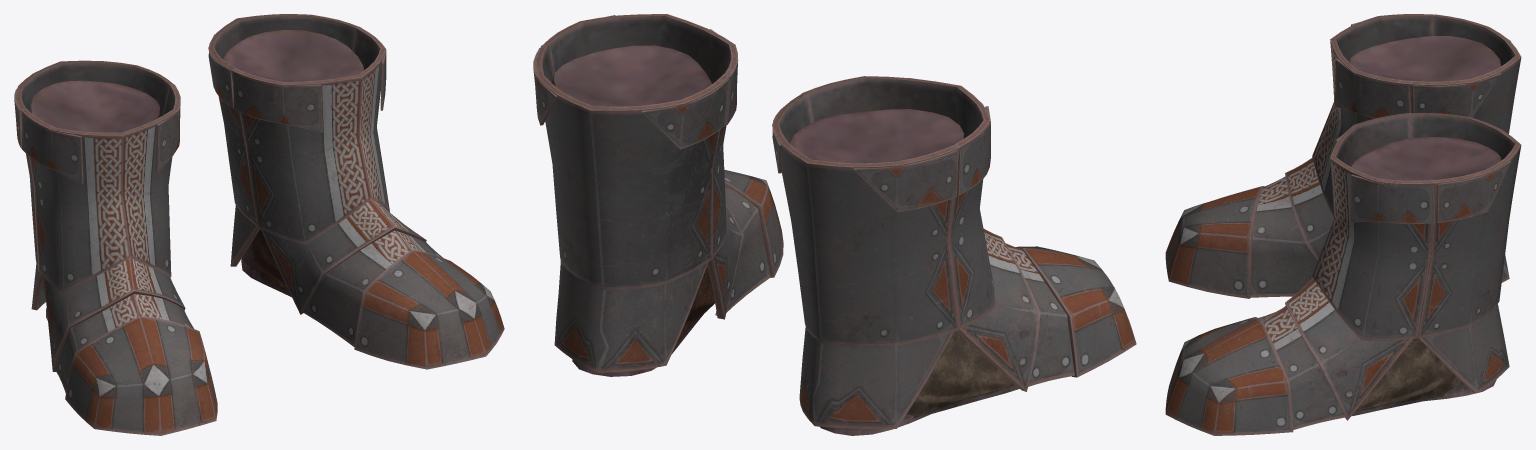
The model's file is sk_dwarf_dain_boots_elite_b.fbx.
3 views of the same model, side by side, from view 1: azimuth 30°, elevation 25°; view 2: azimuth 150°, elevation 25°; view 3: azimuth 270°, elevation 25° (orthographic). The views are drawn at different scales.
Parts seen in each view (by area): view 1: sk_dwarf_dain_boots_elite_b; view 2: sk_dwarf_dain_boots_elite_b; view 3: sk_dwarf_dain_boots_elite_b.
Boxes of the visible parts, x1,y1,x2,y2 form: sk_dwarf_dain_boots_elite_b: (14, 14, 504, 435); sk_dwarf_dain_boots_elite_b: (533, 14, 1136, 435); sk_dwarf_dain_boots_elite_b: (1165, 14, 1521, 435).
Size of the model in its own units: 0.5801 by 0.4277 by 0.3159.
1 material, 1 textured.
